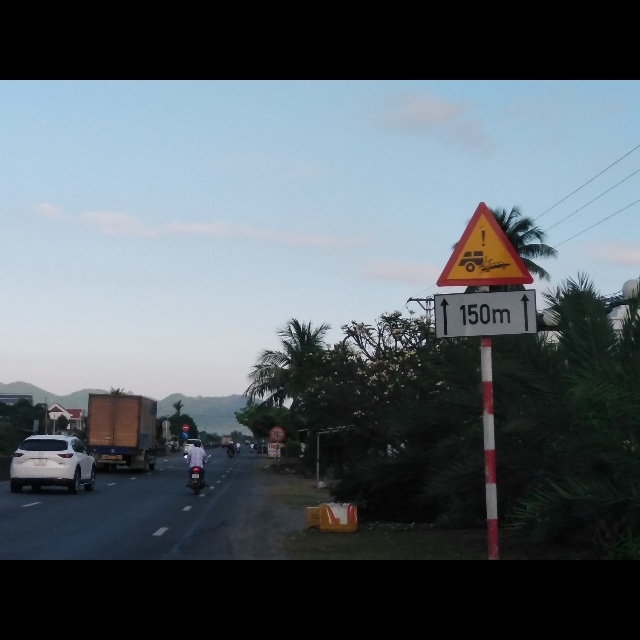Đoạn đường hay xảy ra tai nạn: (436, 202, 534, 287)
